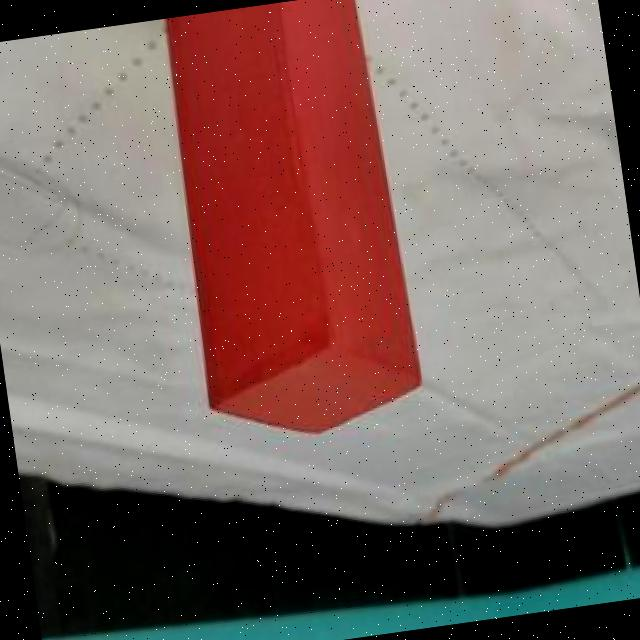redbox: (149, 0, 428, 453)
